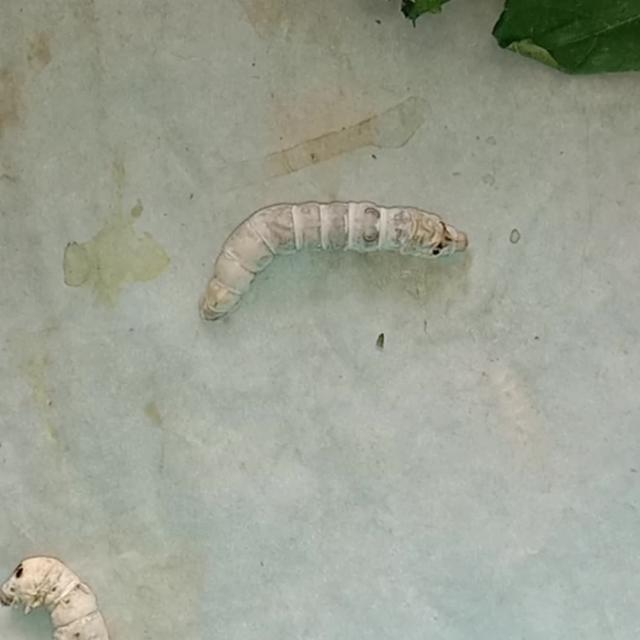Grasserie: (196, 179, 472, 331)
